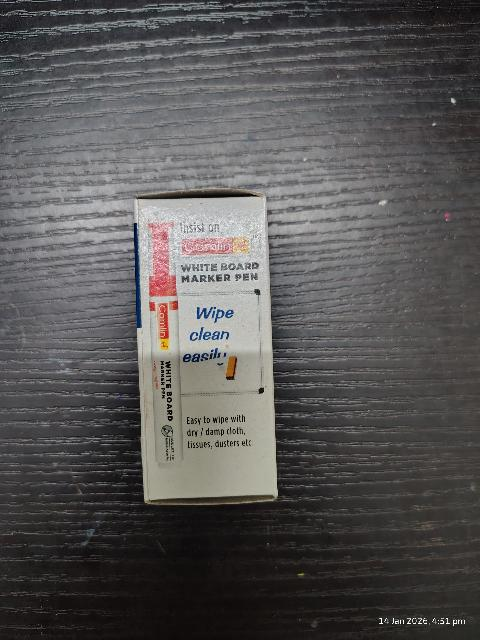camlin marker ink: (134, 197, 282, 496)
